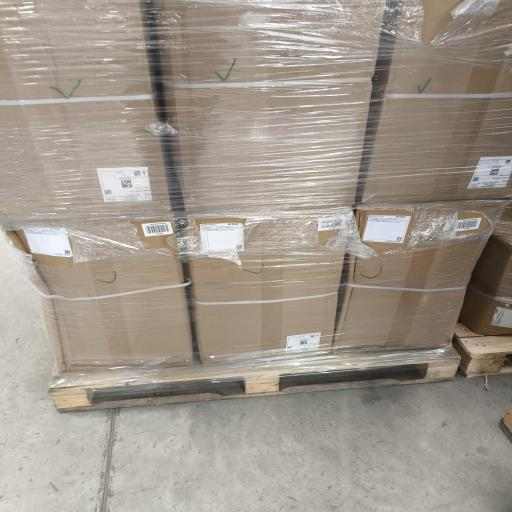pallet: (49, 347, 460, 411), (454, 324, 511, 377), (503, 402, 511, 432)
